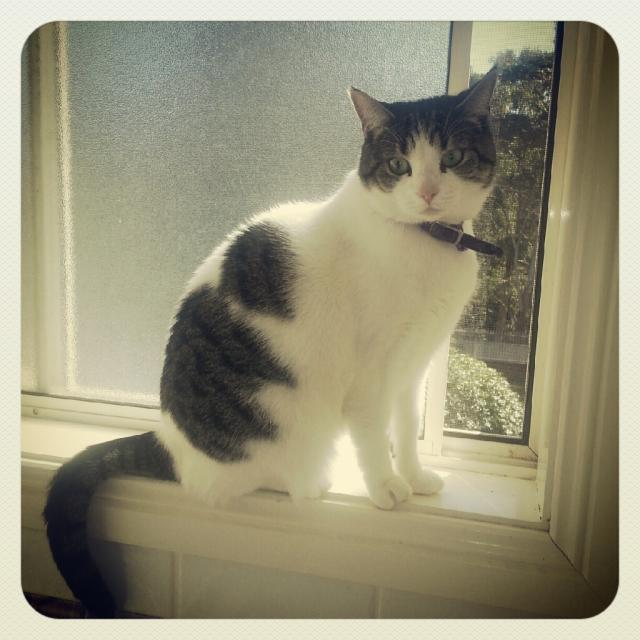Cat: (39, 58, 502, 620)
